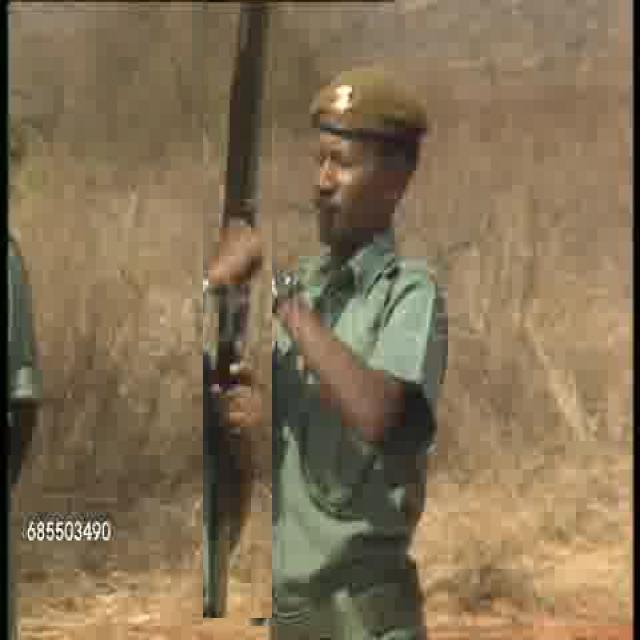poacher: (266, 42, 446, 570)
weapon: (203, 1, 272, 618)
